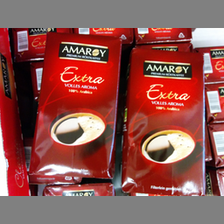coffee: (27, 30, 123, 180), (120, 47, 207, 195)
